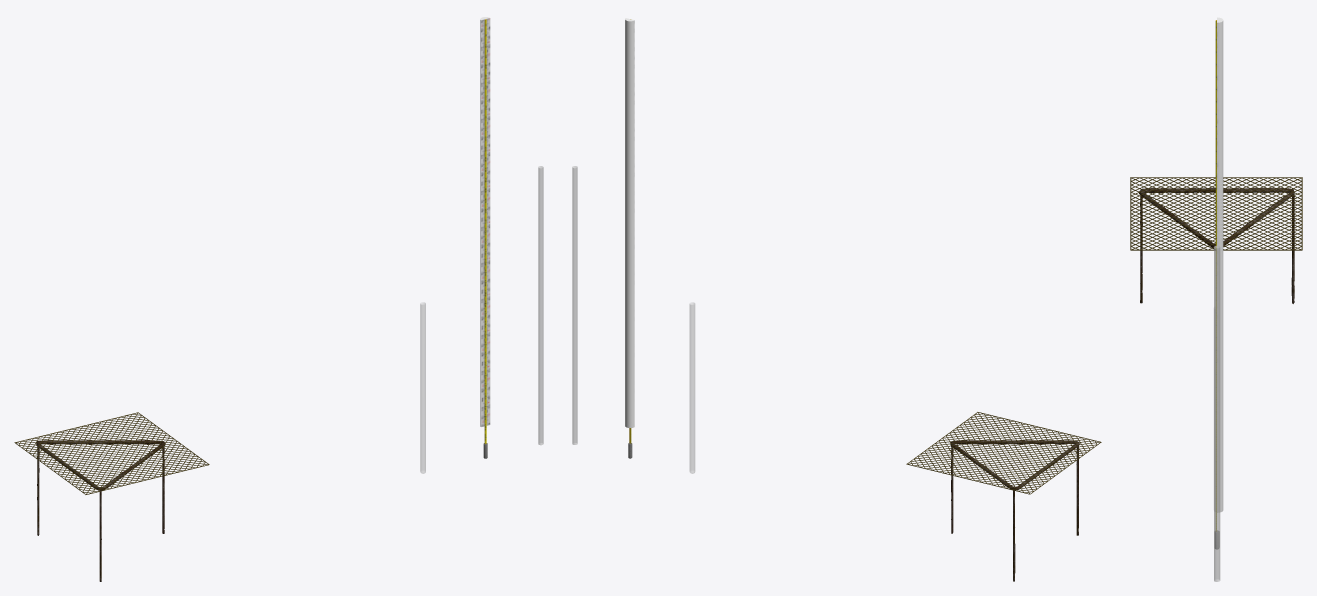
The model's file is becker.fbx.
3 renders of one model, left to right at view 1: azimuth 30°, elevation 25°; view 2: azimuth 150°, elevation 25°; view 3: azimuth 270°, elevation 25°, orthographic. The views are drawn at different scales.
Visible parts, largest first — view 1: Wire Guaze, Measurement Scale, Burner Tripod Stand, Stirrer, Mercury, Stirrer.001; view 2: Wire Guaze, Measurement Scale, Burner Tripod Stand, Stirrer, Stirrer.001; view 3: Wire Guaze, Measurement Scale, Stirrer, Burner Tripod Stand, Mercury.
Part boxes in pixels (bbox=[...]): Wire Guaze: bbox=[14, 412, 209, 494]; Measurement Scale: bbox=[480, 17, 490, 426]; Burner Tripod Stand: bbox=[36, 440, 165, 581]; Stirrer: bbox=[538, 166, 543, 445]; Mercury: bbox=[484, 19, 486, 444]; Stirrer.001: bbox=[420, 302, 425, 473]; Wire Guaze: bbox=[906, 412, 1101, 494]; Measurement Scale: bbox=[625, 18, 634, 427]; Burner Tripod Stand: bbox=[950, 440, 1079, 581]; Stirrer: bbox=[572, 166, 577, 444]; Stirrer.001: bbox=[689, 302, 695, 473]; Wire Guaze: bbox=[1130, 177, 1302, 250]; Measurement Scale: bbox=[1217, 17, 1223, 512]; Stirrer: bbox=[1214, 246, 1220, 581]; Burner Tripod Stand: bbox=[1139, 188, 1294, 303]; Mercury: bbox=[1215, 20, 1216, 531].
Size of the model in its own units: 1305 by 1121 by 327.
